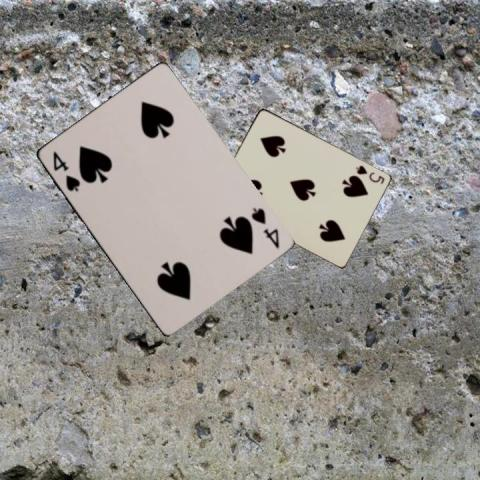4s: (247, 204, 281, 250), (50, 148, 81, 193)
5s: (353, 162, 386, 185)
